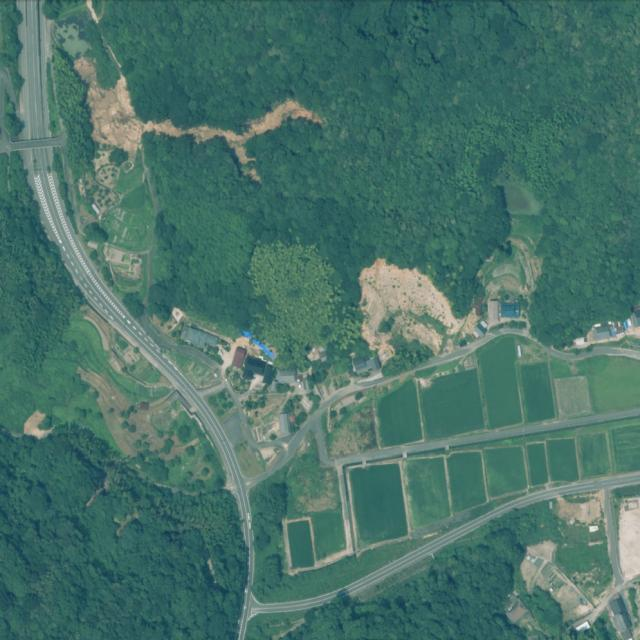landslide: (74, 56, 322, 182), (360, 258, 464, 361), (560, 499, 602, 525), (23, 411, 51, 439)
